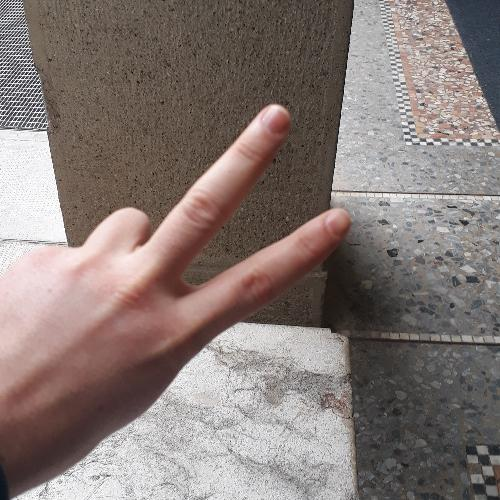scissors: (4, 97, 353, 462)
